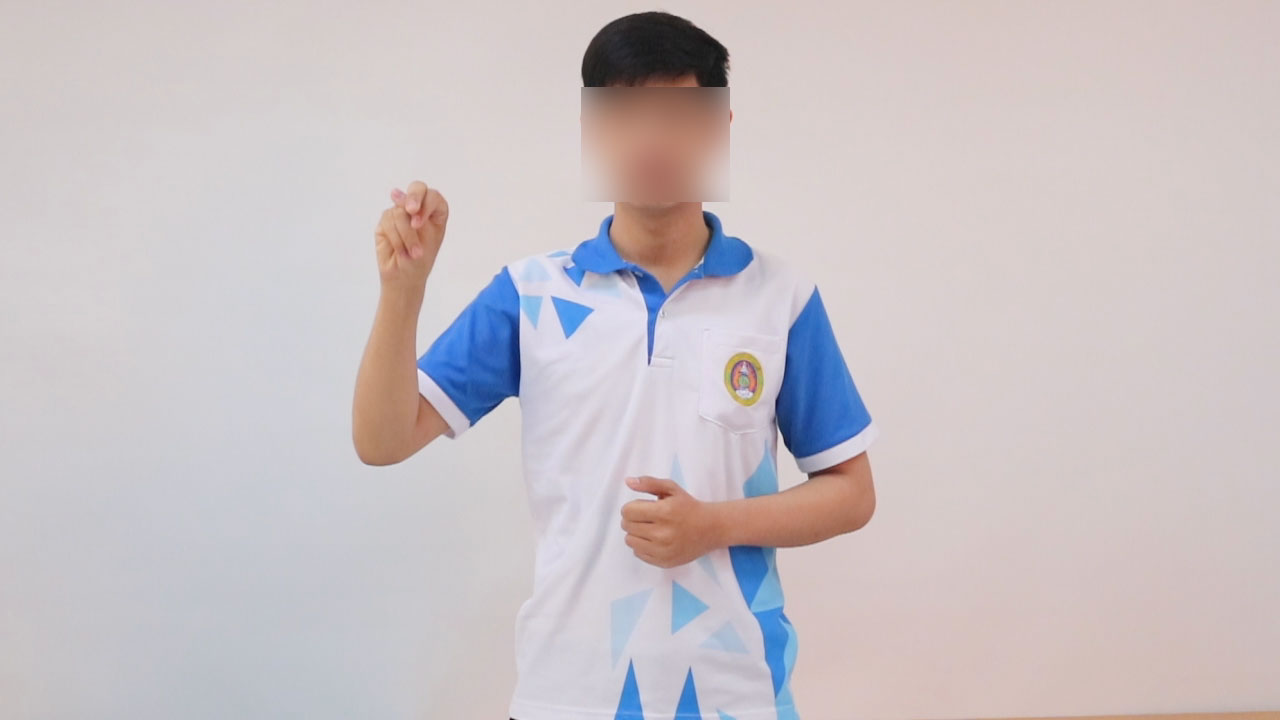nor: (358, 170, 455, 283)
